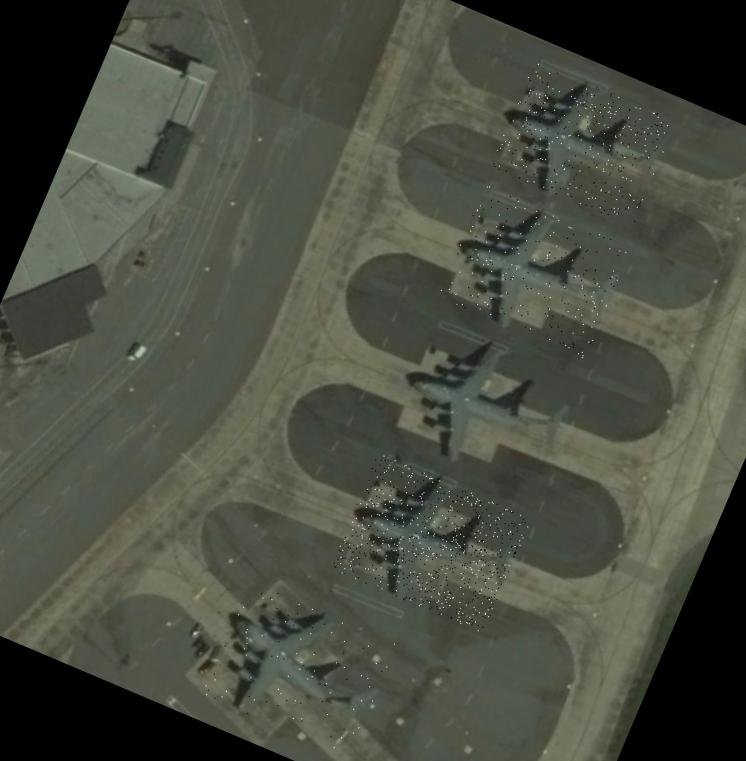A3: (329, 453, 532, 633), (202, 580, 400, 757), (438, 185, 633, 360), (384, 322, 582, 494), (490, 61, 678, 226)
